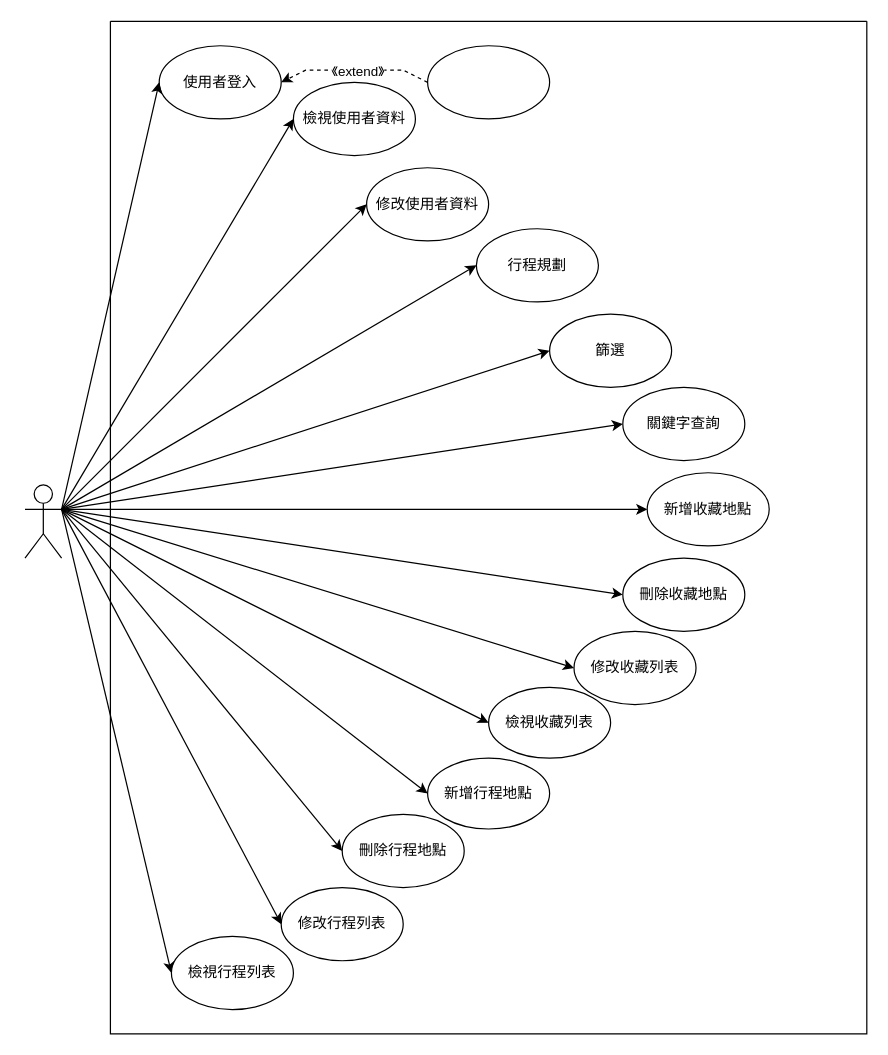
Some shapes in this 888 by 1055 pixel diagram are drawn without their labels. The shapes that lost their labels are listed below. From the top down, each one's centre as x and y in pixels, then its label:
At pixel 488 82: "Google登入驗證".
At pixel 43 521: "使用者".
